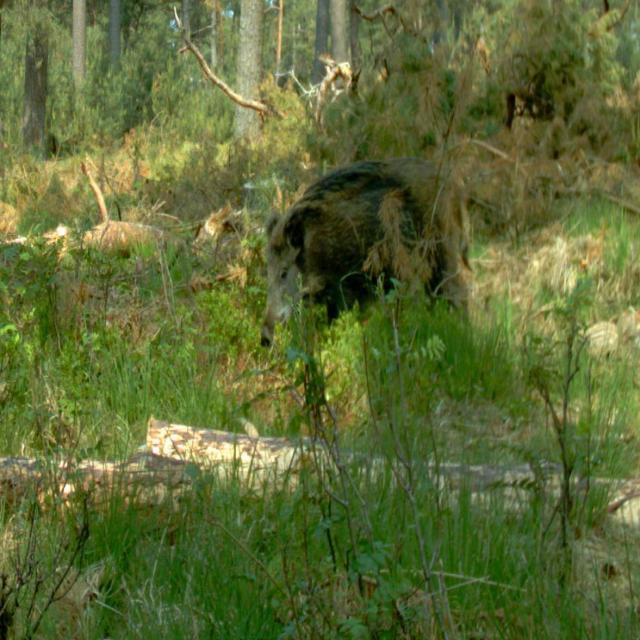pig: (242, 139, 470, 370)
